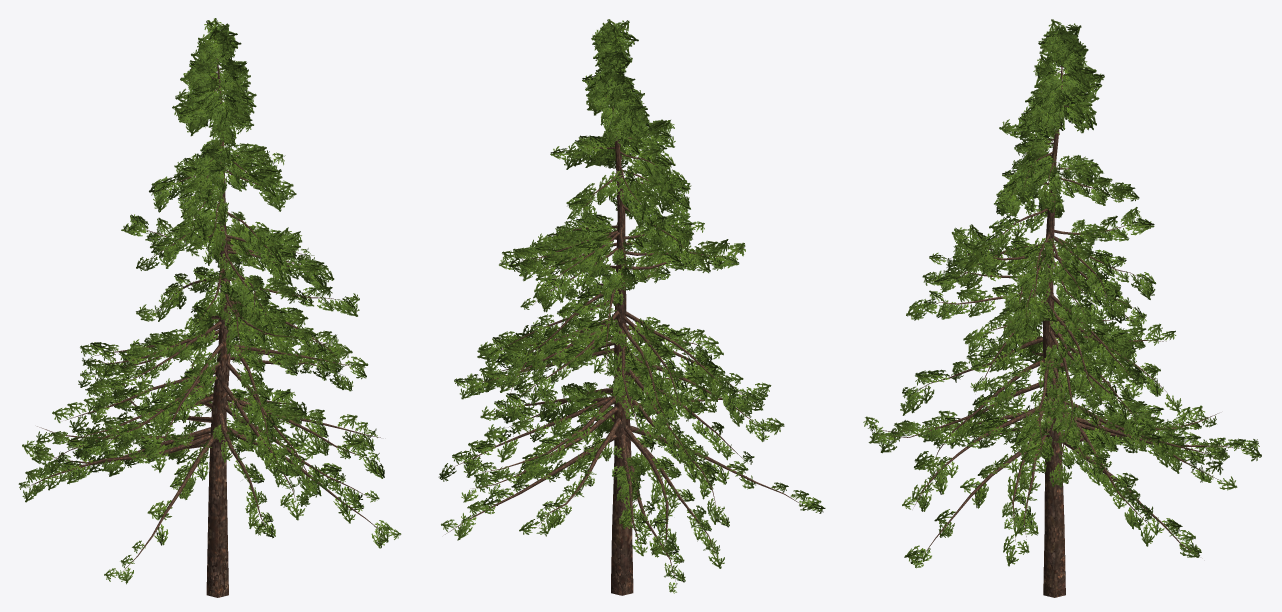
File: tree_pine_medium.glb
The picture shows the model from 3 angles, left to right: view 1: azimuth 30°, elevation 25°; view 2: azimuth 150°, elevation 25°; view 3: azimuth 270°, elevation 25°; orthographic projection.
Visible parts, largest first — view 1: Leaves, Branches; view 2: Leaves, Branches; view 3: Leaves, Branches.
Boxes of the visible parts, bbox=[...] form: Leaves: bbox=[18, 18, 401, 584]; Branches: bbox=[27, 39, 381, 597]; Leaves: bbox=[438, 19, 825, 593]; Branches: bbox=[445, 36, 804, 595]; Leaves: bbox=[863, 19, 1261, 568]; Branches: bbox=[873, 66, 1244, 597].
Size of the model in its own units: 6.65 by 11.6 by 7.48.
Materials: 2 (2 with a texture image).
